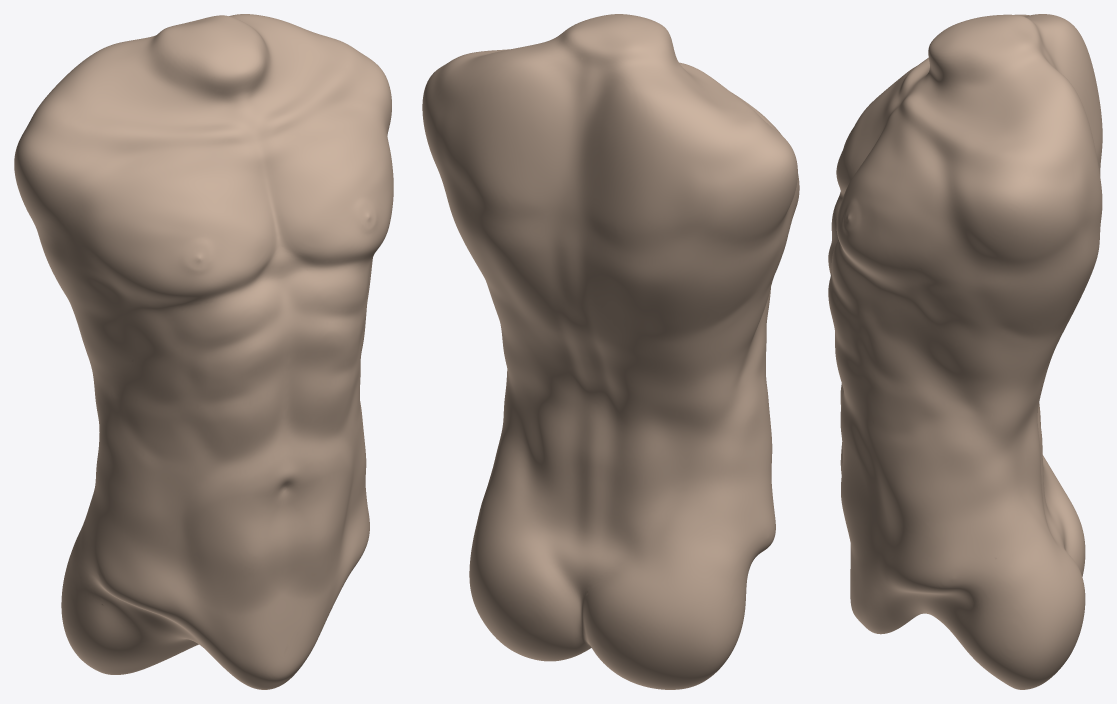
Rendered from sculpt-torso.glb.
3 views of the same model, side by side, from view 1: azimuth 30°, elevation 25°; view 2: azimuth 150°, elevation 25°; view 3: azimuth 270°, elevation 25° (orthographic).
Visible parts, largest first — view 1: sculpt-torso; view 2: sculpt-torso; view 3: sculpt-torso.
Part boxes in pixels (x1,y1,x2,y2): sculpt-torso: (14,14,393,689); sculpt-torso: (422,14,799,689); sculpt-torso: (828,14,1102,689).
Bounding box in the file's own units: 0.3857 × 0.65 × 0.2579.
